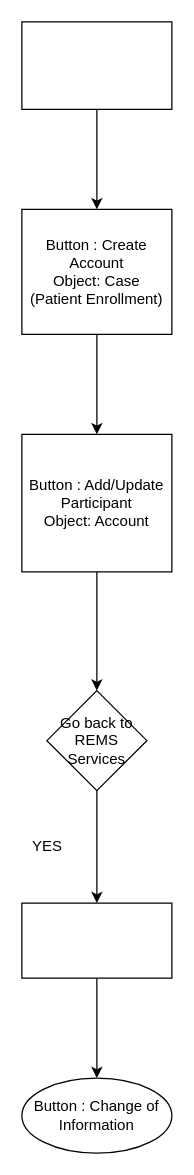
The diagram is 194 pixels wide and 1175 high, and some of its shapes have lost their labels. The shapes that lost their labels are listed below. From the top down, each one's centre as x and y in pixels, then its label:
[96,65]: REMS Service RT: participant Account Creation
[96,940]: REMS Service RT: Change of Information
